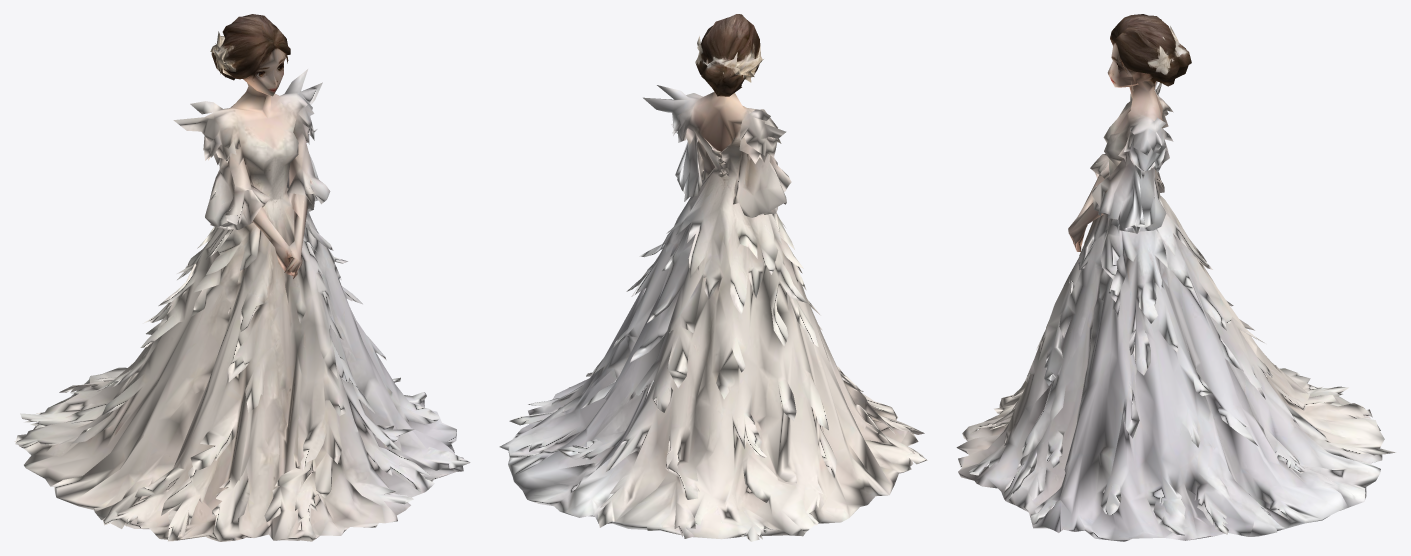
The model's file is wedding-dress.glb.
3 renders of one model, left to right at view 1: azimuth 30°, elevation 25°; view 2: azimuth 150°, elevation 25°; view 3: azimuth 270°, elevation 25°, orthographic. The views are drawn at different scales.
Visible parts, largest first — view 1: tripo_node_35d5c6ff-0940-4e7e-a0cc-be5d2045b19e; view 2: tripo_node_35d5c6ff-0940-4e7e-a0cc-be5d2045b19e; view 3: tripo_node_35d5c6ff-0940-4e7e-a0cc-be5d2045b19e.
Part boxes in pixels (bbox=[...]): tripo_node_35d5c6ff-0940-4e7e-a0cc-be5d2045b19e: bbox=[14, 14, 470, 541]; tripo_node_35d5c6ff-0940-4e7e-a0cc-be5d2045b19e: bbox=[499, 14, 927, 541]; tripo_node_35d5c6ff-0940-4e7e-a0cc-be5d2045b19e: bbox=[956, 14, 1395, 541].
Bounding box in the file's own units: 0.8525 × 0.9781 × 0.8894.
1 material, 1 textured.
